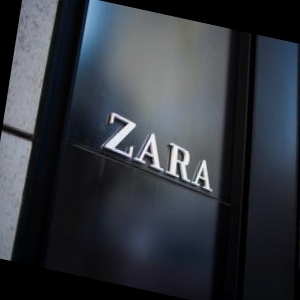zara: (172, 102, 287, 224)
